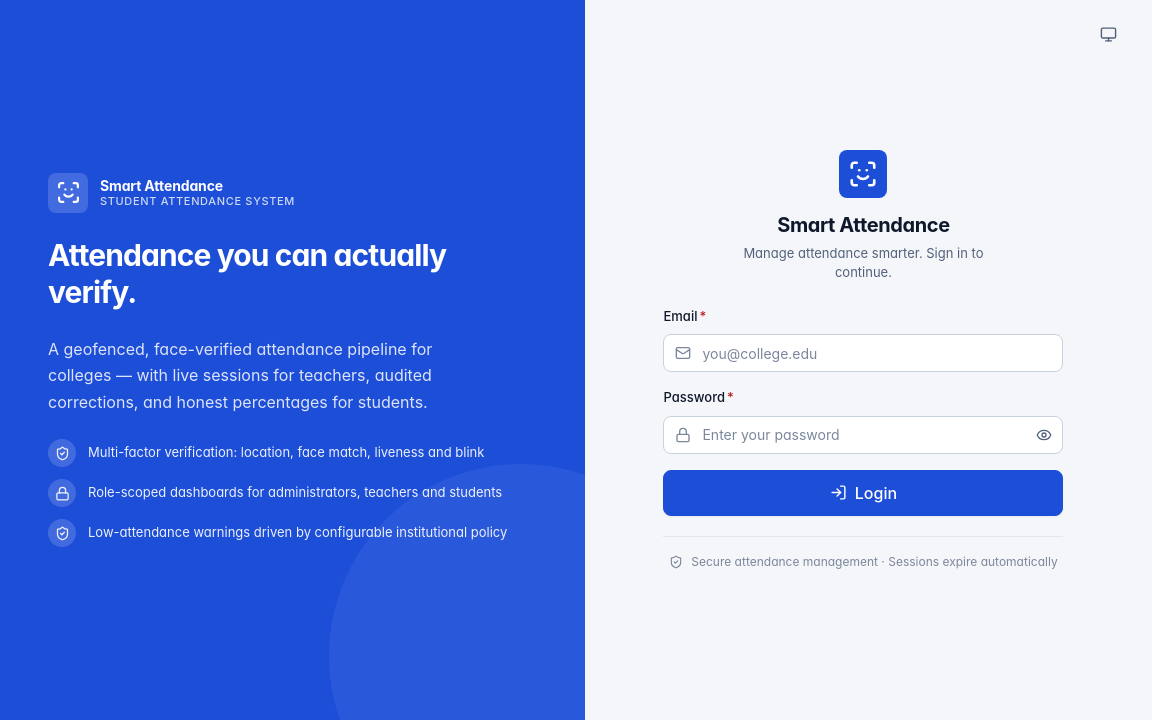
it: LoginPage › shows the backend message when credentials are rejected
The image size is (1152, 720).
Type "aarav@ssams.dev" into the field labelled "Email*" at (864, 353), box [664,334,1064,372]
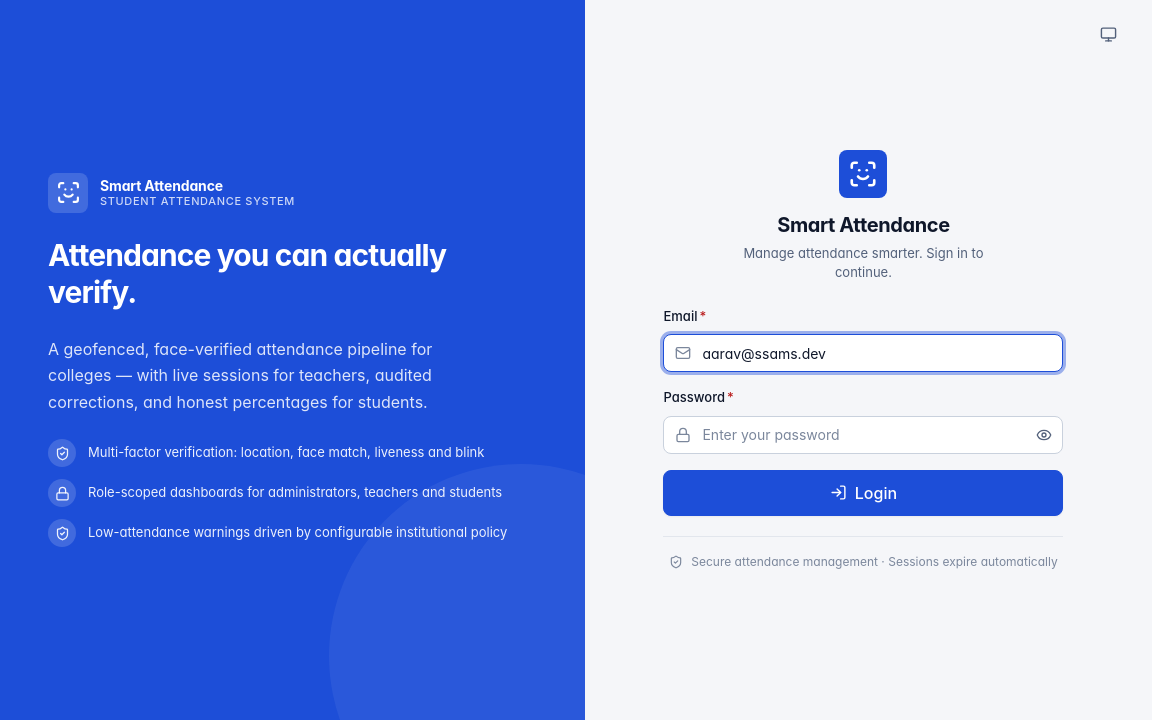
Type "wrong-password" into the password field labelled "Password*" at (864, 434), box [664,416,1064,454]
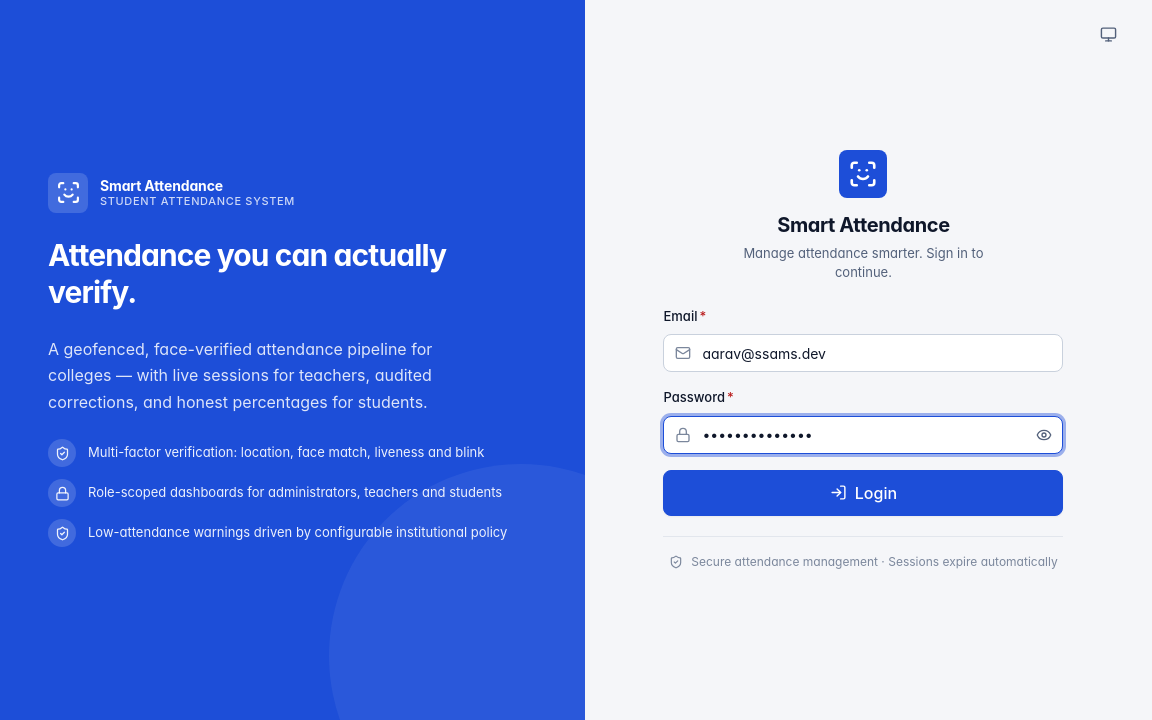
Click the button "Login" at (864, 492), box [664,470,1064,516]
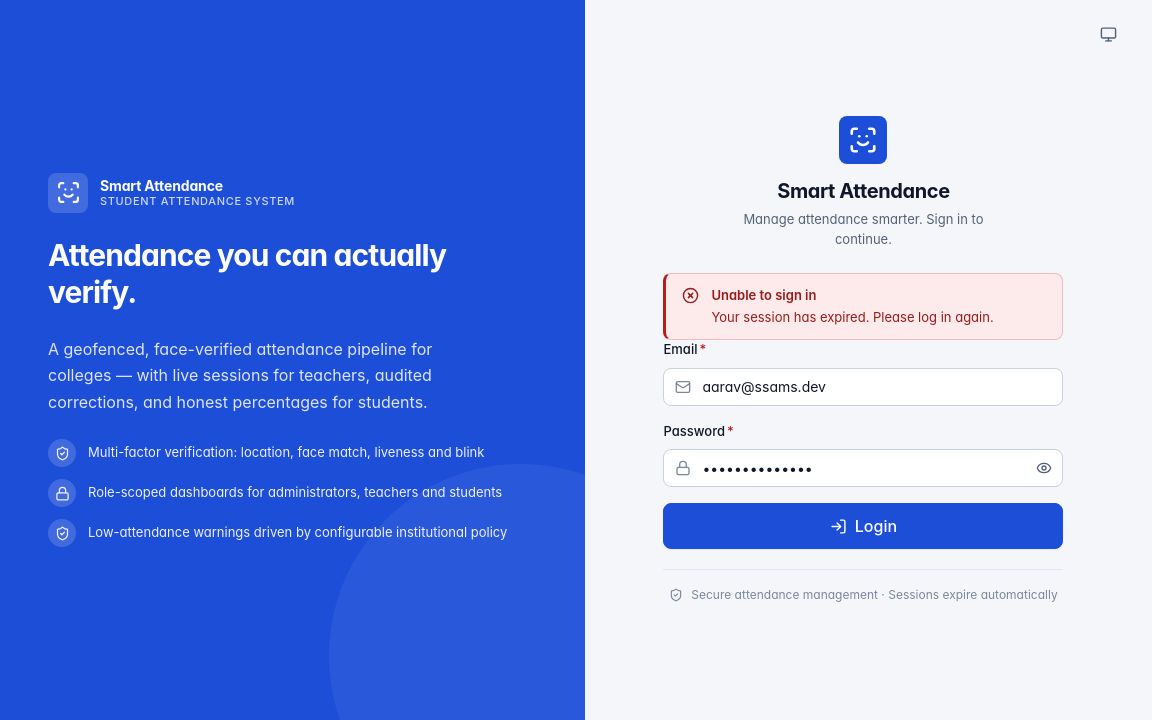
Check: the text "Unable to sign in" is shown, box [712,287,816,303]
